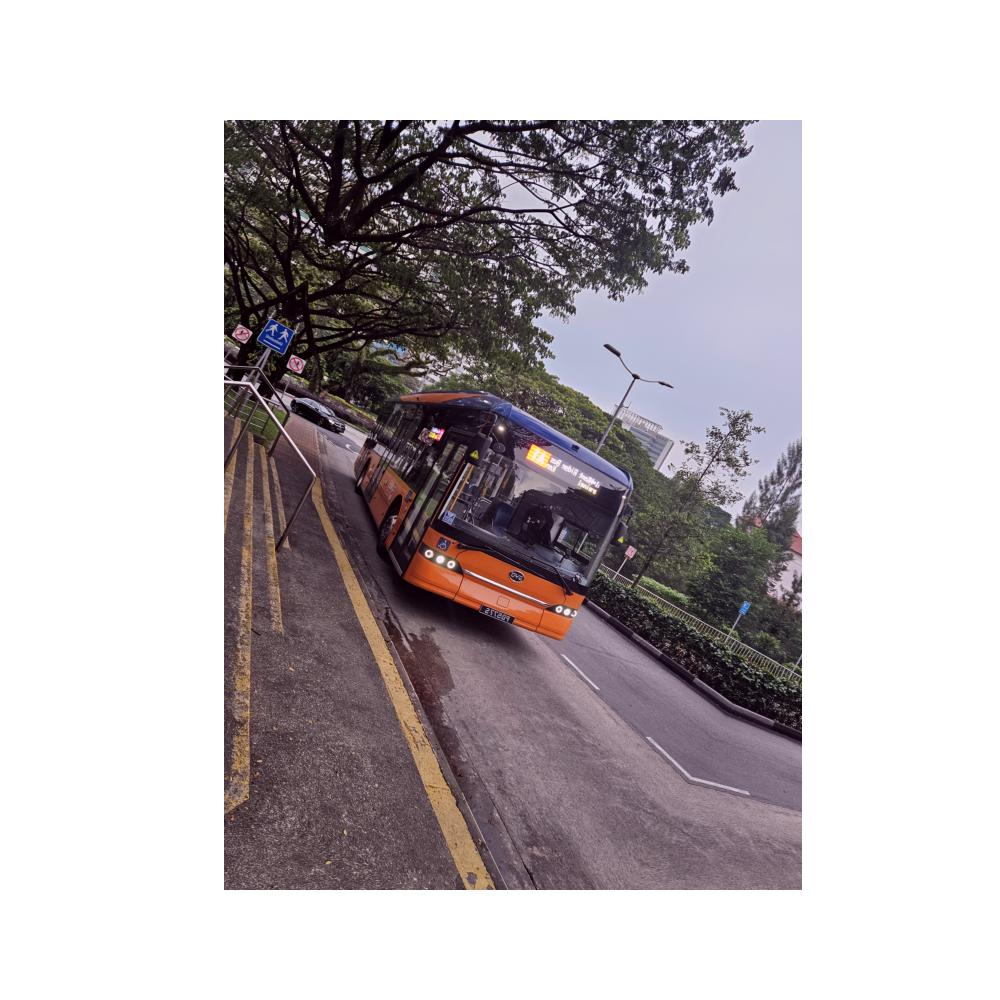bus: (348, 388, 633, 652)
